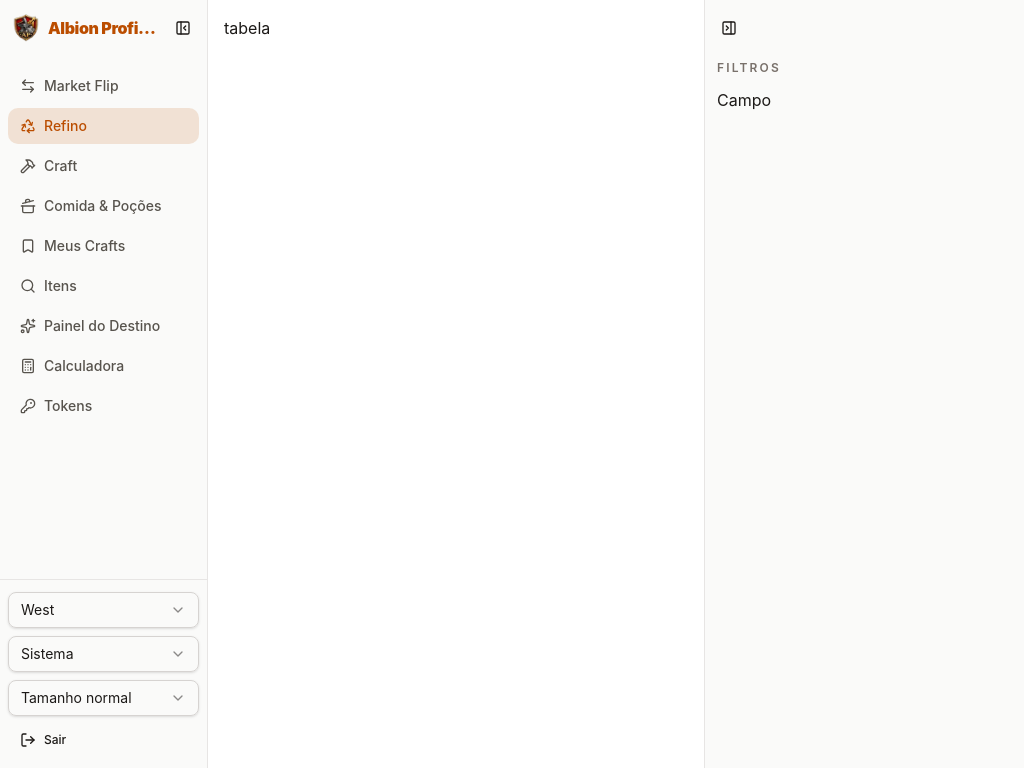
Test case: painel de filtros recolhível (task 4/20) › recolher o painel devolve a largura para a tabela
Click the button named "Recolher filtros" at point(729, 28), box x1=713 y1=12 x2=745 y2=44
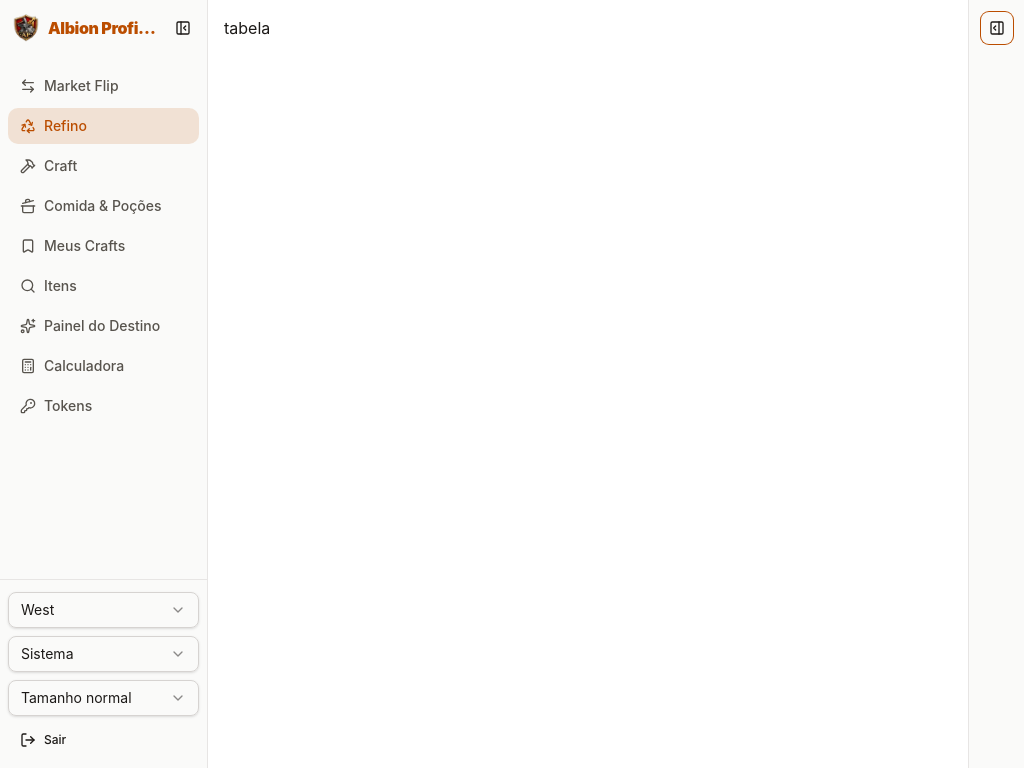
Expected: the button named "Expandir filtros" is shown, x1=980 y1=12 x2=1012 y2=44
